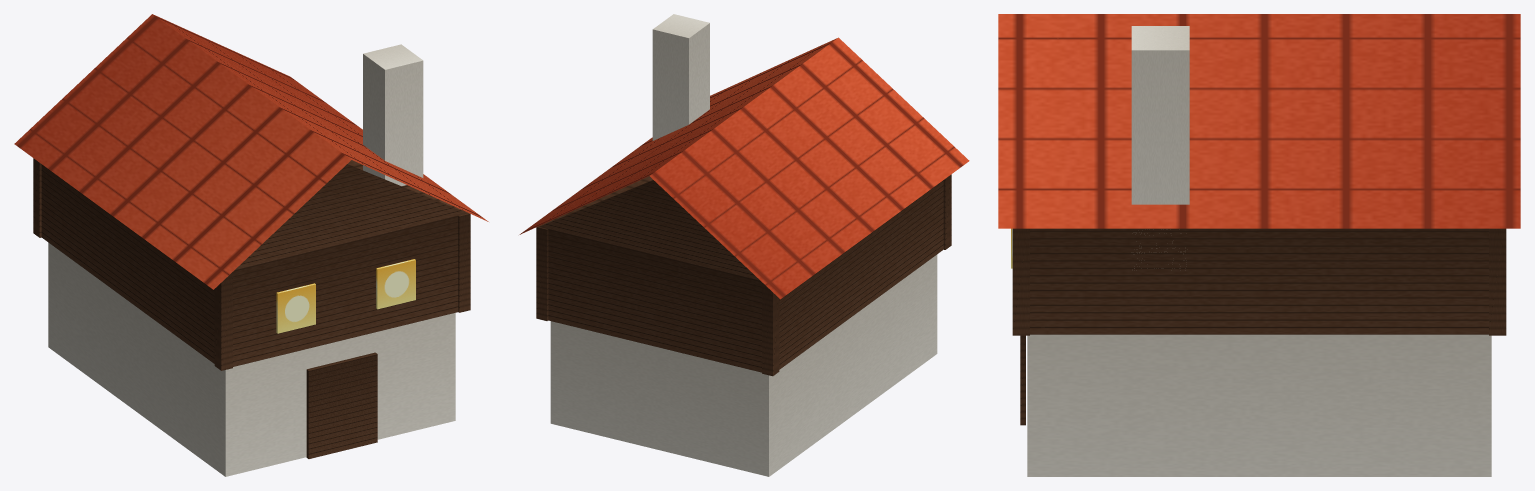
File: house_medieval.gltf
3 views of the same model, side by side, from view 1: azimuth 30°, elevation 25°; view 2: azimuth 150°, elevation 25°; view 3: azimuth 270°, elevation 25° (orthographic). The views are drawn at different scales.
Visible parts, largest first — view 1: house_medieval; view 2: house_medieval; view 3: house_medieval.
Boxes of the visible parts, <box> form: house_medieval: <box>14,14,488,476</box>; house_medieval: <box>519,14,969,476</box>; house_medieval: <box>998,14,1520,476</box>.
Size of the model in its own units: 7.2 by 8.2 by 9.
Materials: 1 (1 with a texture image).
